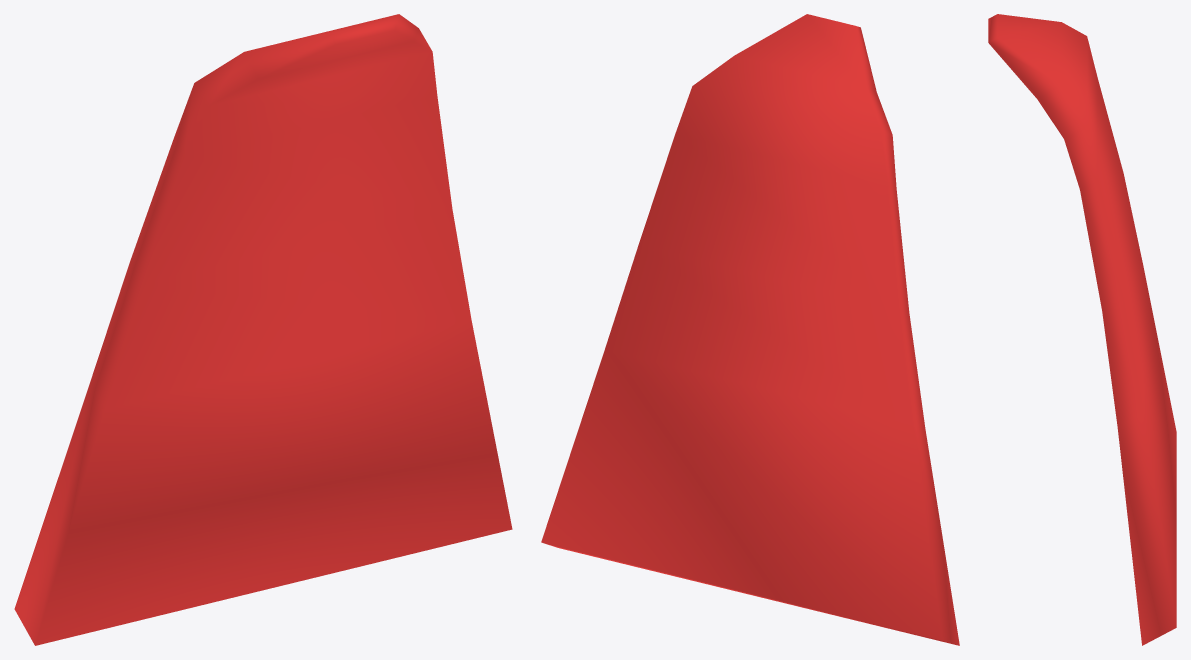
File: accessory-cape.glb
3 views of the same model, side by side, from view 1: azimuth 30°, elevation 25°; view 2: azimuth 150°, elevation 25°; view 3: azimuth 270°, elevation 25° (orthographic). The views are drawn at different scales.
Parts seen in each view (by area): view 1: accessory__Cube__0; view 2: accessory__Cube__0; view 3: accessory__Cube__0.
Part boxes in pixels (x1,y1,x2,y2): accessory__Cube__0: (14,14,512,645); accessory__Cube__0: (541,14,959,645); accessory__Cube__0: (988,14,1176,645).
Size of the model in its own units: 0.4942 by 0.6164 by 0.2015.
